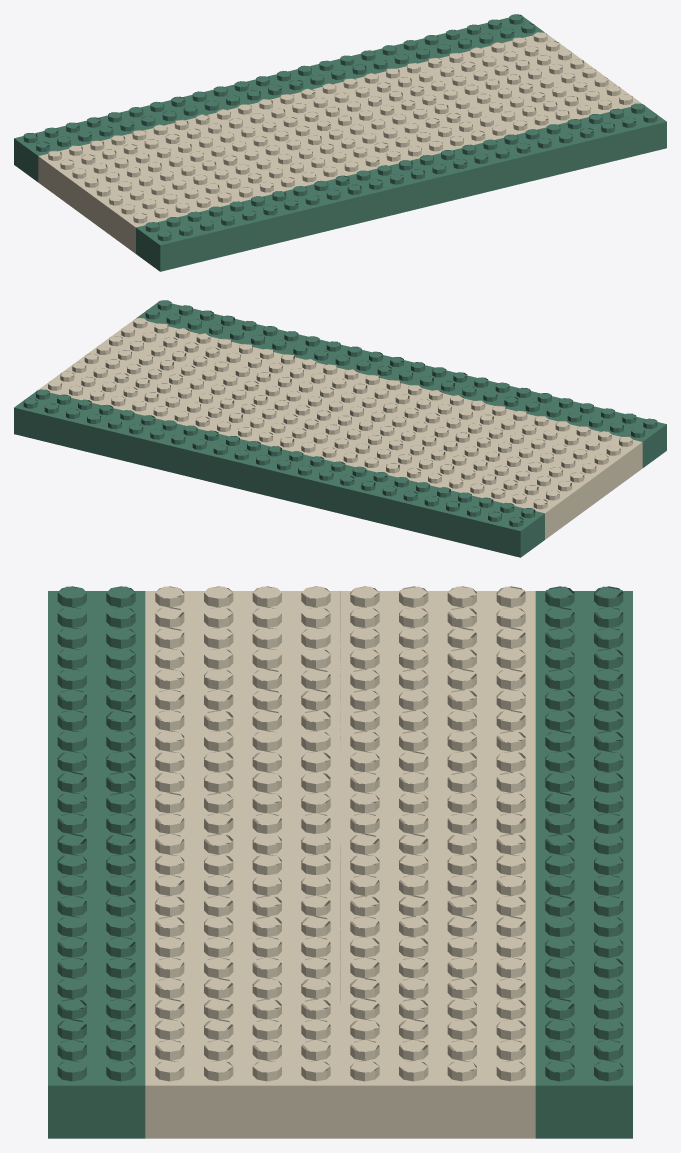
Rendered from land.fbx.
3 renders of one model, top to bottom at view 1: azimuth 30°, elevation 25°; view 2: azimuth 150°, elevation 25°; view 3: azimuth 270°, elevation 25°, orthographic. The views are drawn at different scales.
Visible parts, largest first — view 1: 3001.035; view 2: 3001.035; view 3: 3001.035.
Boxes of the visible parts, x1,y1,x2,y2 form: 3001.035: [14, 14, 666, 271]; 3001.035: [14, 300, 666, 557]; 3001.035: [48, 586, 632, 1138].
Bounding box in the file's own units: 1920 × 112 × 960.
